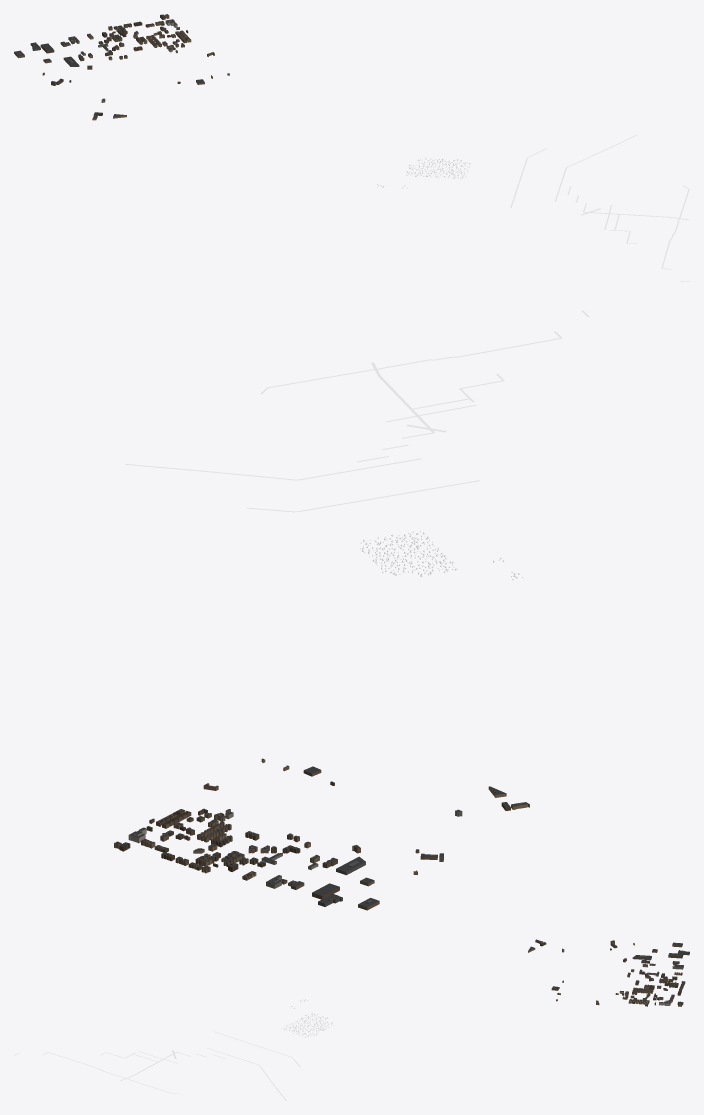
The model's file is manhattan_+02_-04.glb.
3 renders of one model, top to bottom at view 1: azimuth 30°, elevation 25°; view 2: azimuth 150°, elevation 25°; view 3: azimuth 270°, elevation 25°, orthographic. The views are drawn at different scales.
Visible parts, largest first — view 1: BLD_lowrise_+02_-04, ROAD_+02_-04, TREE_+02_-04; view 2: BLD_lowrise_+02_-04, ROAD_+02_-04, TREE_+02_-04; view 3: BLD_lowrise_+02_-04, ROAD_+02_-04, TREE_+02_-04.
Part boxes in pixels (x1,y1,x2,y2): BLD_lowrise_+02_-04: [14, 14, 229, 120]; ROAD_+02_-04: [510, 134, 689, 281]; TREE_+02_-04: [377, 157, 470, 188]; BLD_lowrise_+02_-04: [114, 758, 529, 910]; ROAD_+02_-04: [125, 310, 589, 512]; TREE_+02_-04: [360, 531, 523, 580]; BLD_lowrise_+02_-04: [528, 939, 689, 1006]; ROAD_+02_-04: [14, 1031, 300, 1100]; TREE_+02_-04: [283, 999, 333, 1037].
Bounding box in the file's own units: 3434 × 30.86 × 6137.
